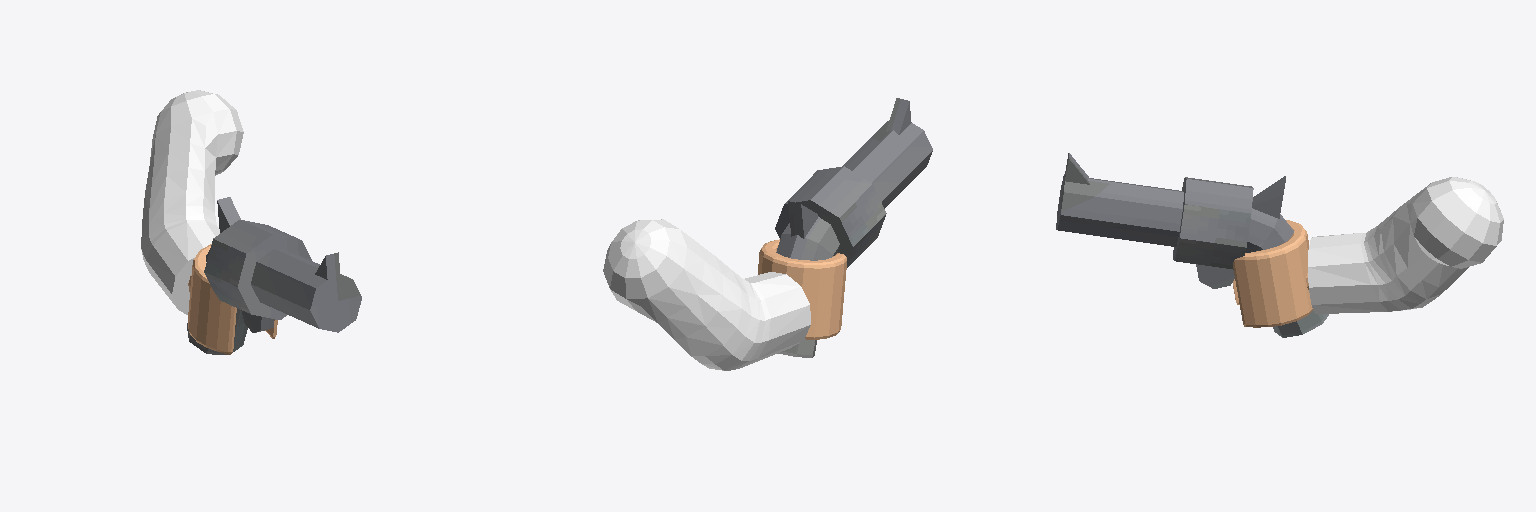
3 views of the same model, side by side, from view 1: azimuth 30°, elevation 25°; view 2: azimuth 150°, elevation 25°; view 3: azimuth 270°, elevation 25° (orthographic).
Parts seen in each view (by area): view 1: Mesh_0142.013_Mesh_0142Mesh.002, Mesh_0186_Mesh_0186Mesh, Mesh_0140.001_Mesh_0140Mesh.001; view 2: Mesh_0142.013_Mesh_0142Mesh.002, Mesh_0186_Mesh_0186Mesh, Mesh_0140.001_Mesh_0140Mesh.001; view 3: Mesh_0142.013_Mesh_0142Mesh.002, Mesh_0186_Mesh_0186Mesh, Mesh_0140.001_Mesh_0140Mesh.001.
Part boxes in pixels (left/top/right/bottom): Mesh_0142.013_Mesh_0142Mesh.002: left=141, top=90, right=243, bottom=314; Mesh_0186_Mesh_0186Mesh: left=187, top=197, right=361, bottom=354; Mesh_0140.001_Mesh_0140Mesh.001: left=188, top=244, right=277, bottom=354; Mesh_0142.013_Mesh_0142Mesh.002: left=603, top=219, right=810, bottom=370; Mesh_0186_Mesh_0186Mesh: left=775, top=98, right=932, bottom=357; Mesh_0140.001_Mesh_0140Mesh.001: left=758, top=239, right=846, bottom=339; Mesh_0142.013_Mesh_0142Mesh.002: left=1308, top=177, right=1503, bottom=313; Mesh_0186_Mesh_0186Mesh: left=1056, top=153, right=1328, bottom=337; Mesh_0140.001_Mesh_0140Mesh.001: left=1233, top=220, right=1312, bottom=327.
Bounding box in the file's own units: 0.0801 × 0.1009 × 0.2267.
3 materials, 2 textured.